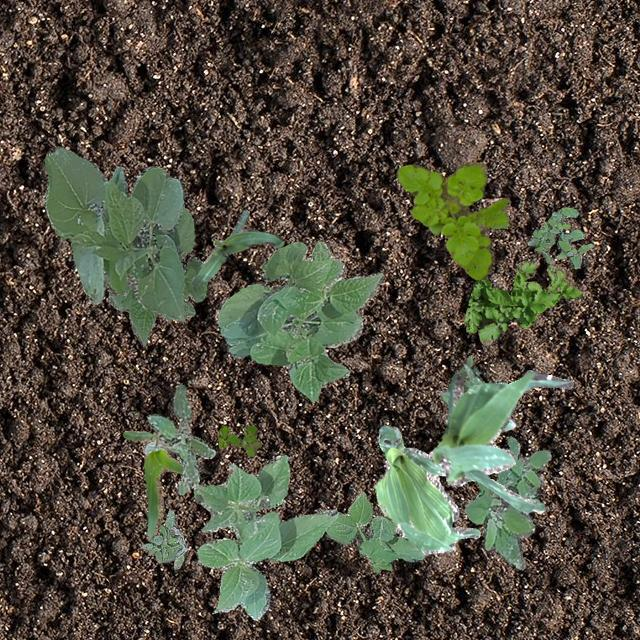crop: (216, 240, 382, 400), (44, 146, 185, 320), (192, 453, 336, 620), (428, 368, 572, 512), (106, 206, 206, 344), (374, 424, 479, 554), (190, 208, 282, 284), (121, 430, 182, 540)
weed: (396, 162, 510, 278), (464, 436, 550, 568), (462, 260, 580, 344), (324, 491, 424, 572), (142, 382, 214, 494), (440, 354, 514, 430), (526, 206, 592, 268), (140, 508, 186, 568), (217, 424, 260, 456)
